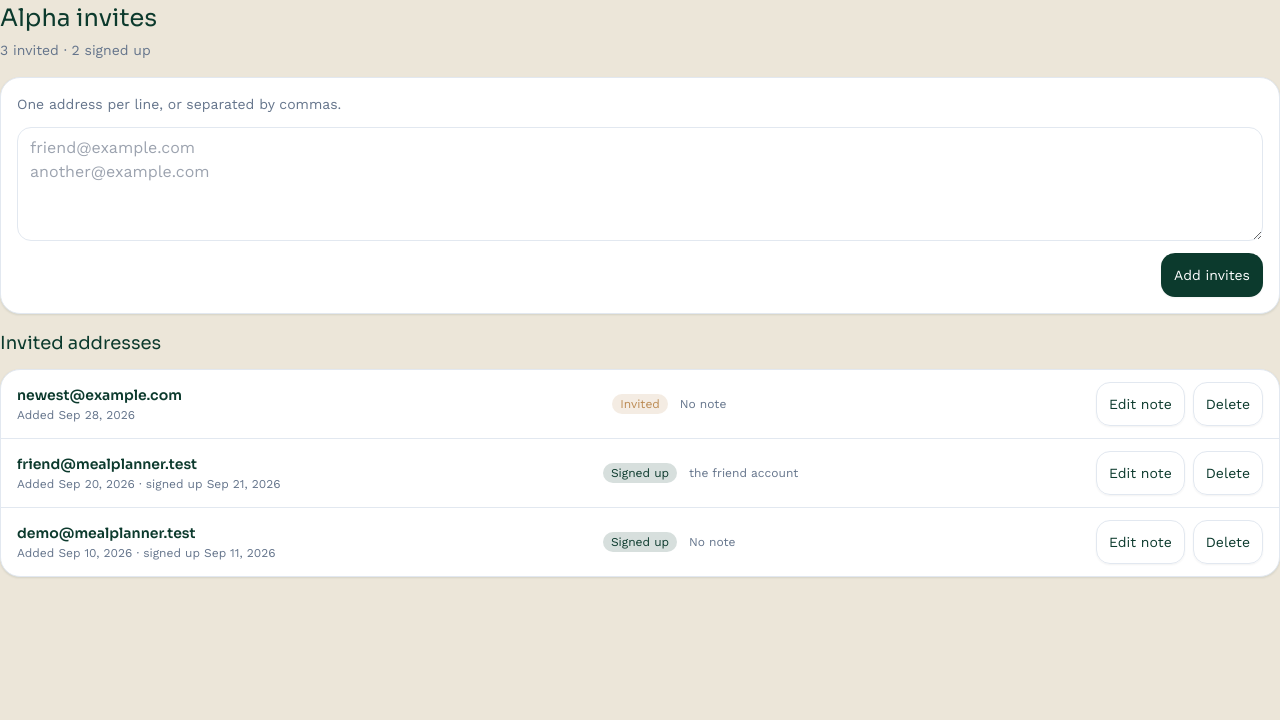
cancelling the delete confirmation removes nothing
expect the text "demo@mealplanner.test" is shown: met, box [17,524,196,542]
Click the button "Delete" in the row of "the friend account".
click(1228, 473)  # box [1193,451,1263,495]
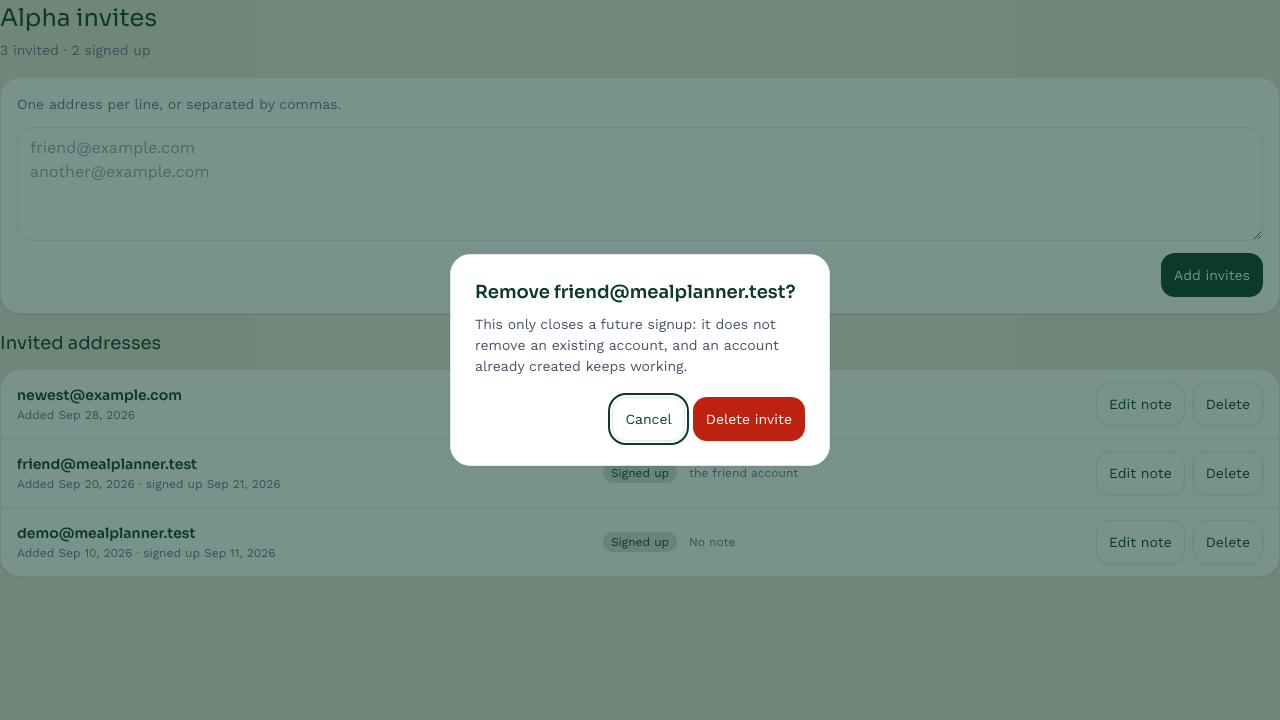
Click the button "Cancel".
click(649, 419)  # box [612,397,685,441]
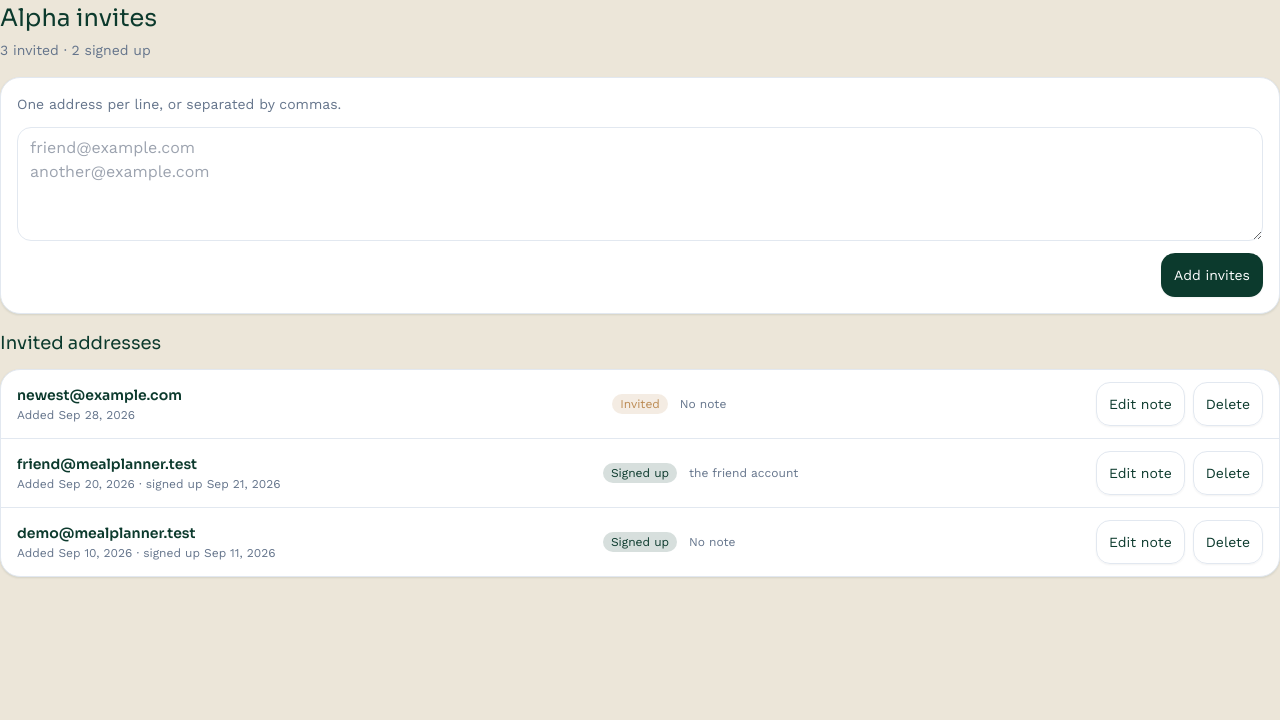
expect the dialog is gone: met
